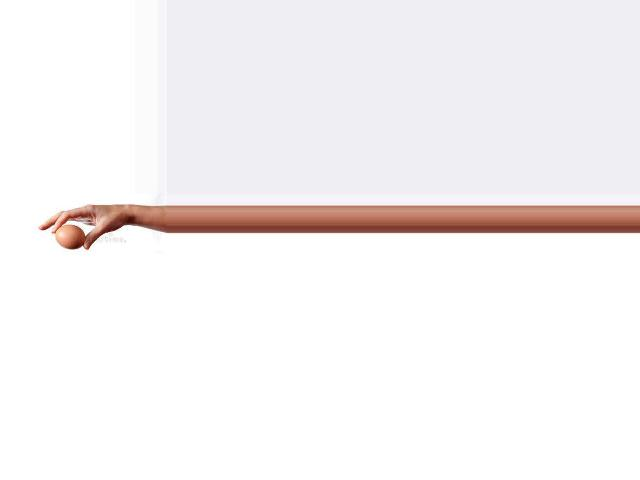egg: (55, 225, 86, 249)
